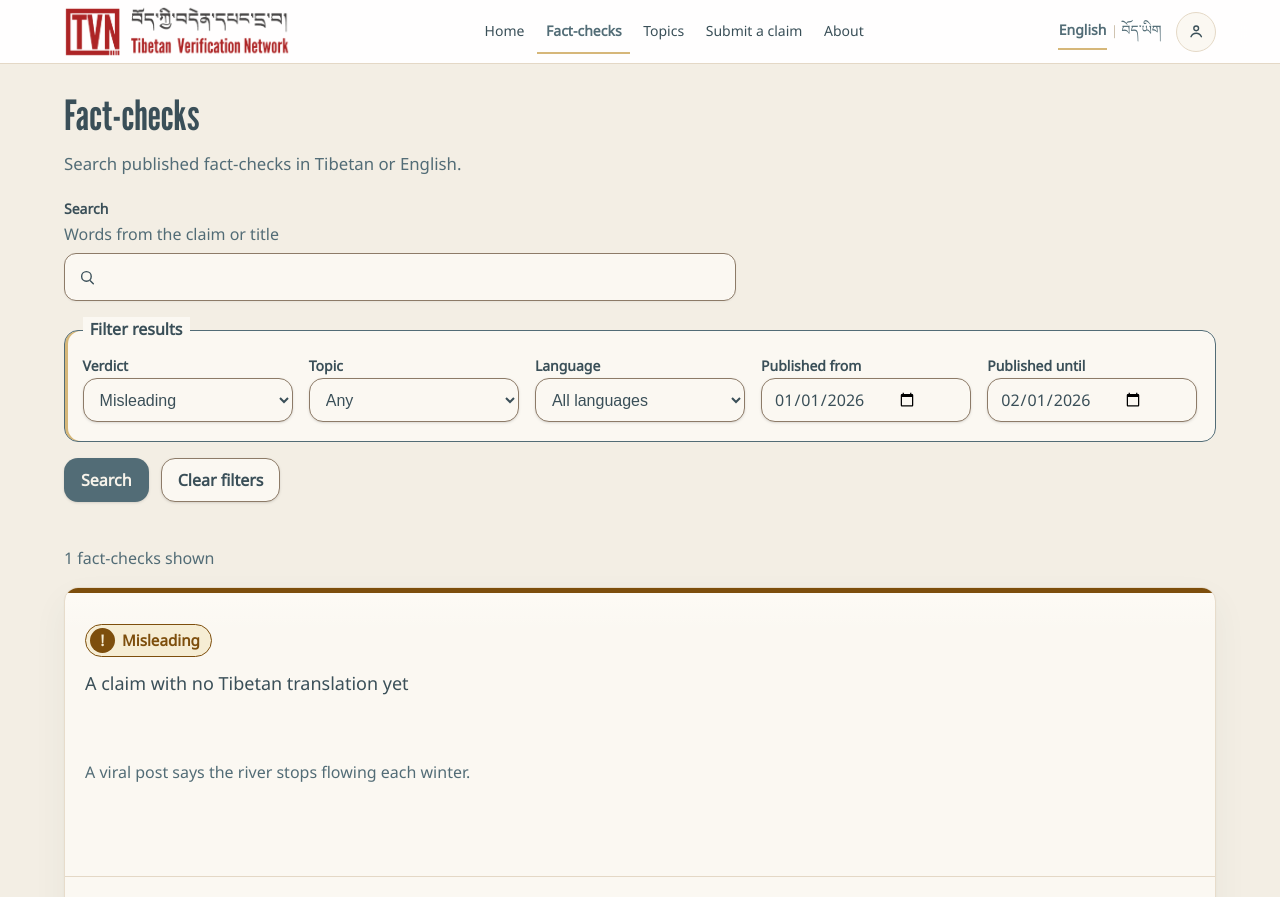
it: search page › applies filters from the URL and from the form
expect the link "A claim with no Tibetan translation yet" is shown: met, box [85,671,409,695]
Select "False" in the dropdown labelled "Verdict" at (188, 400), box [83,378,293,422]
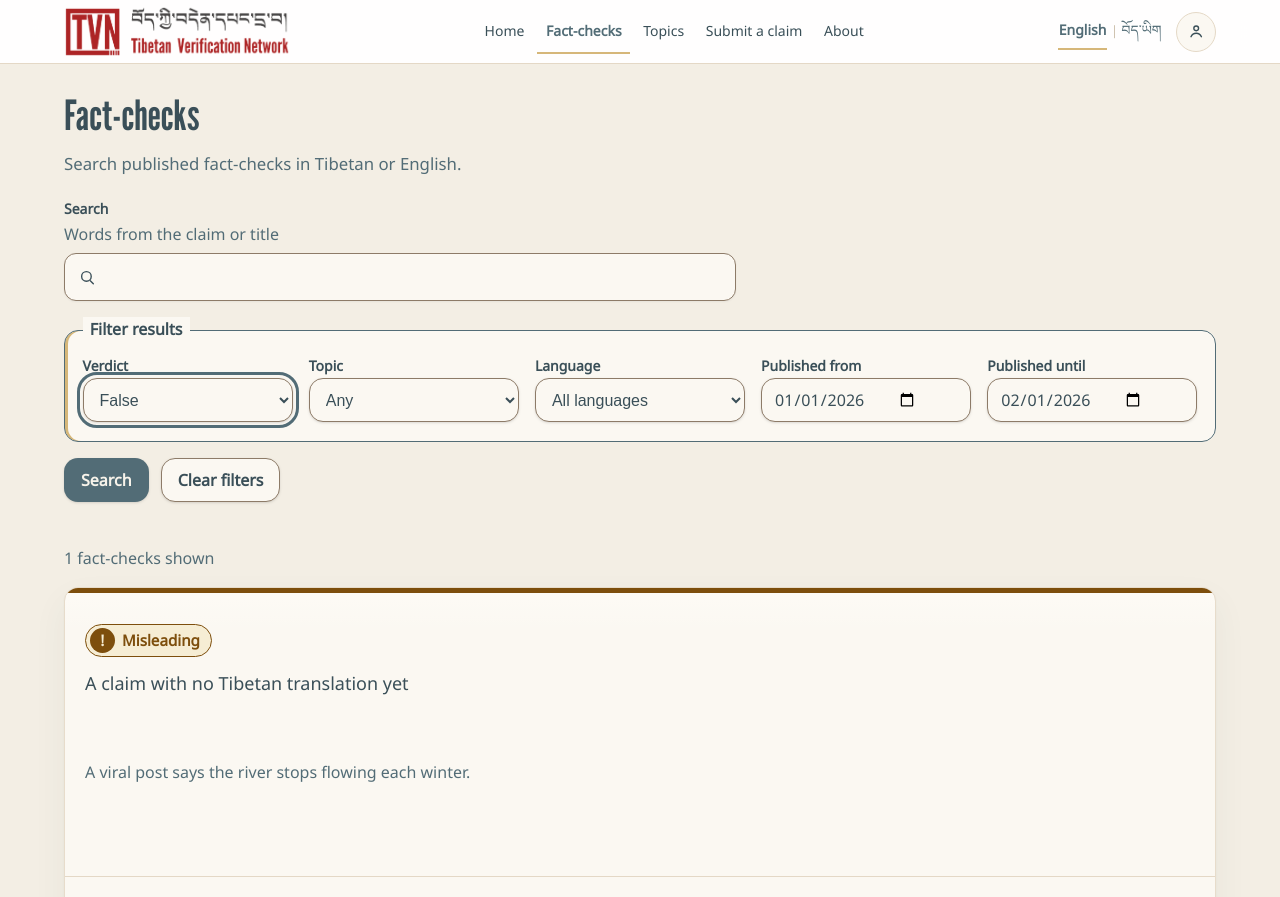
Select "English" in the dropdown labelled "Language" at (640, 400), box [535,378,745,422]
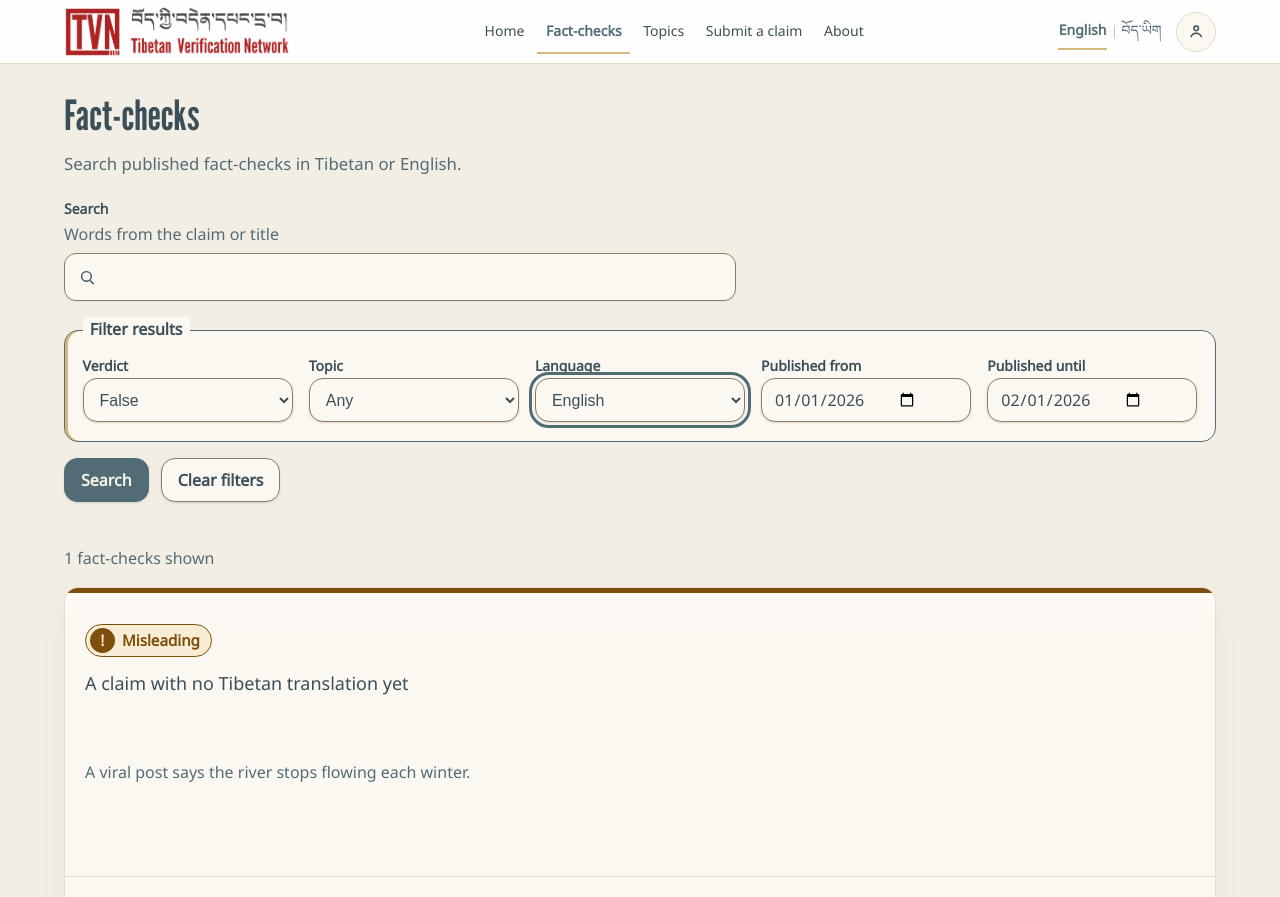
Click the button "Search" at (106, 480), box [64,458,149,502]
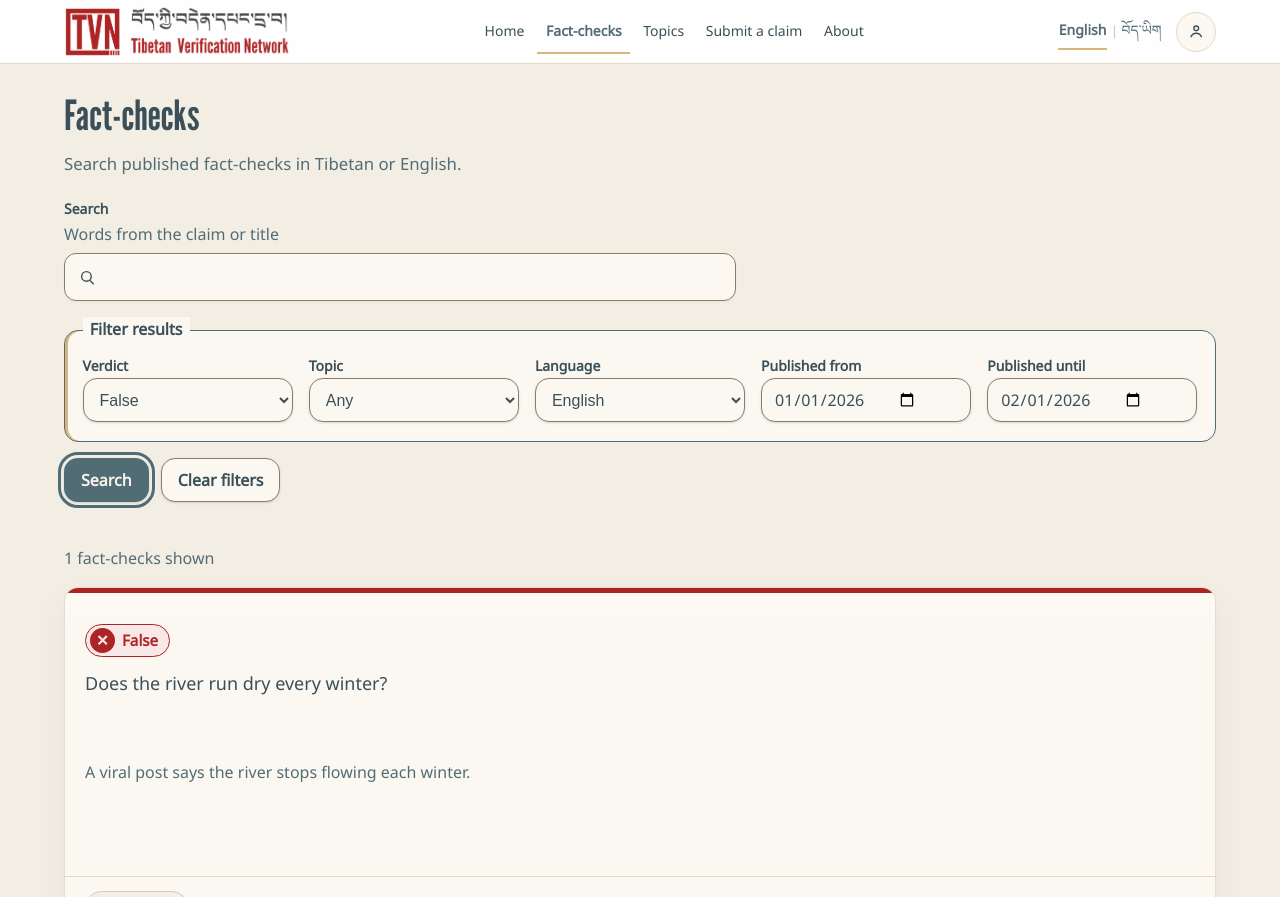
expect the link "Does the river run dry every winter?" is shown: met, box [85,671,387,695]
expect the link "A claim with no Tibetan translation yet" is gone: met
